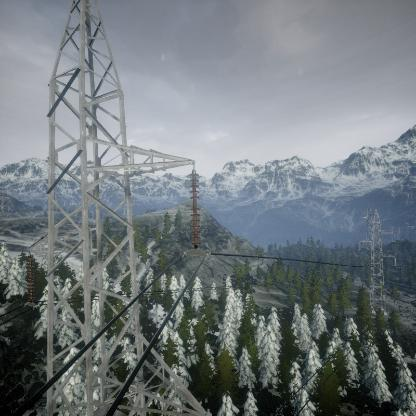insulator: (186, 170, 202, 248), (24, 253, 35, 305)
tower: (357, 206, 399, 321)
